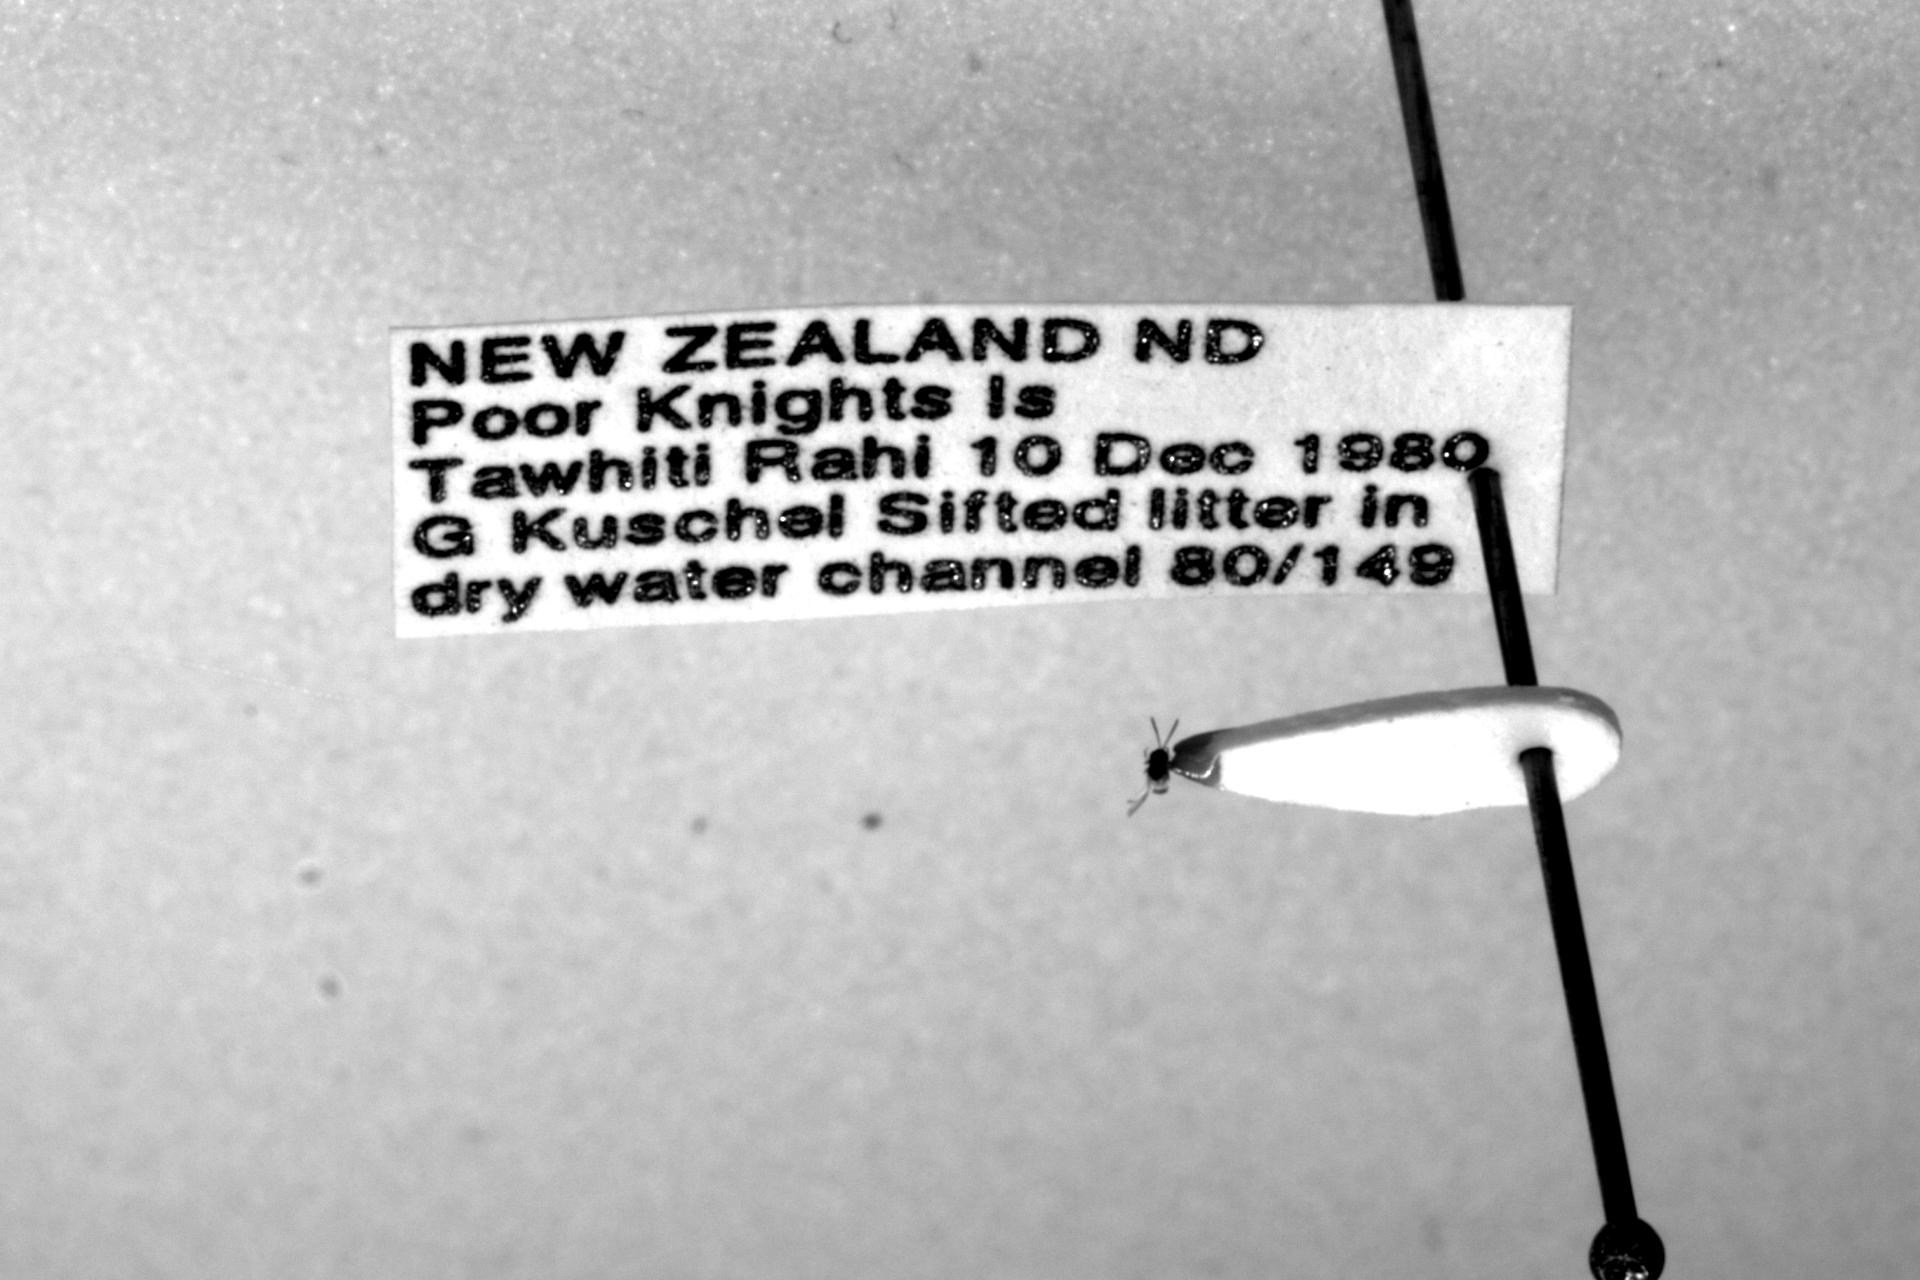typed_label: (390, 304, 1571, 638)
